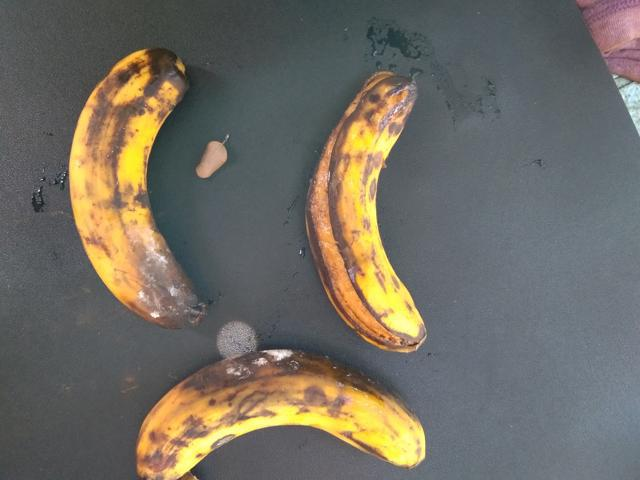rotten: (286, 54, 462, 367), (48, 18, 218, 325), (134, 330, 438, 475)
